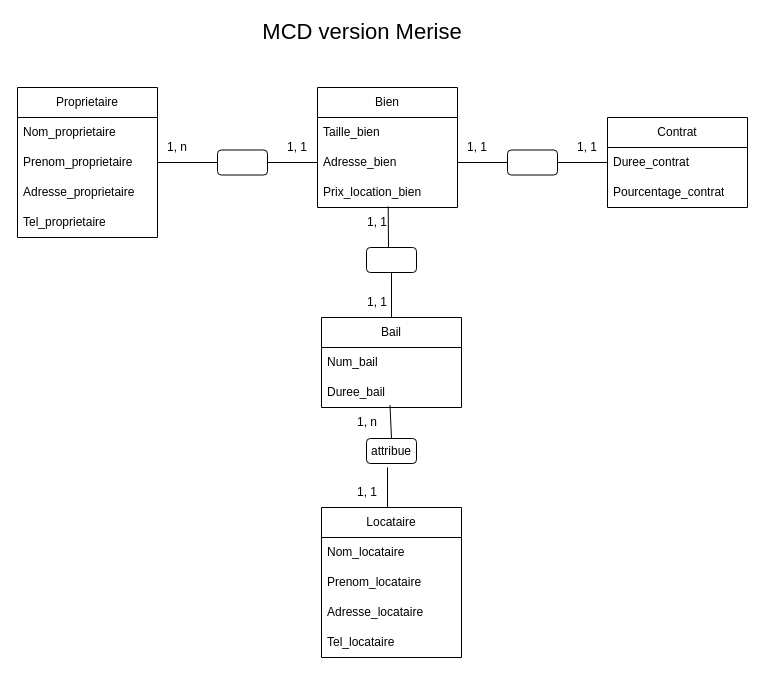
This 765x675 diagram has some shape labels left out. The shapes that lost their labels are listed below. From the top down, each one's box as (x1, y1, x2, y2) in pixels, then its label:
(216, 149, 268, 175): remet
(506, 149, 558, 175): cree
(366, 246, 416, 272): genere
